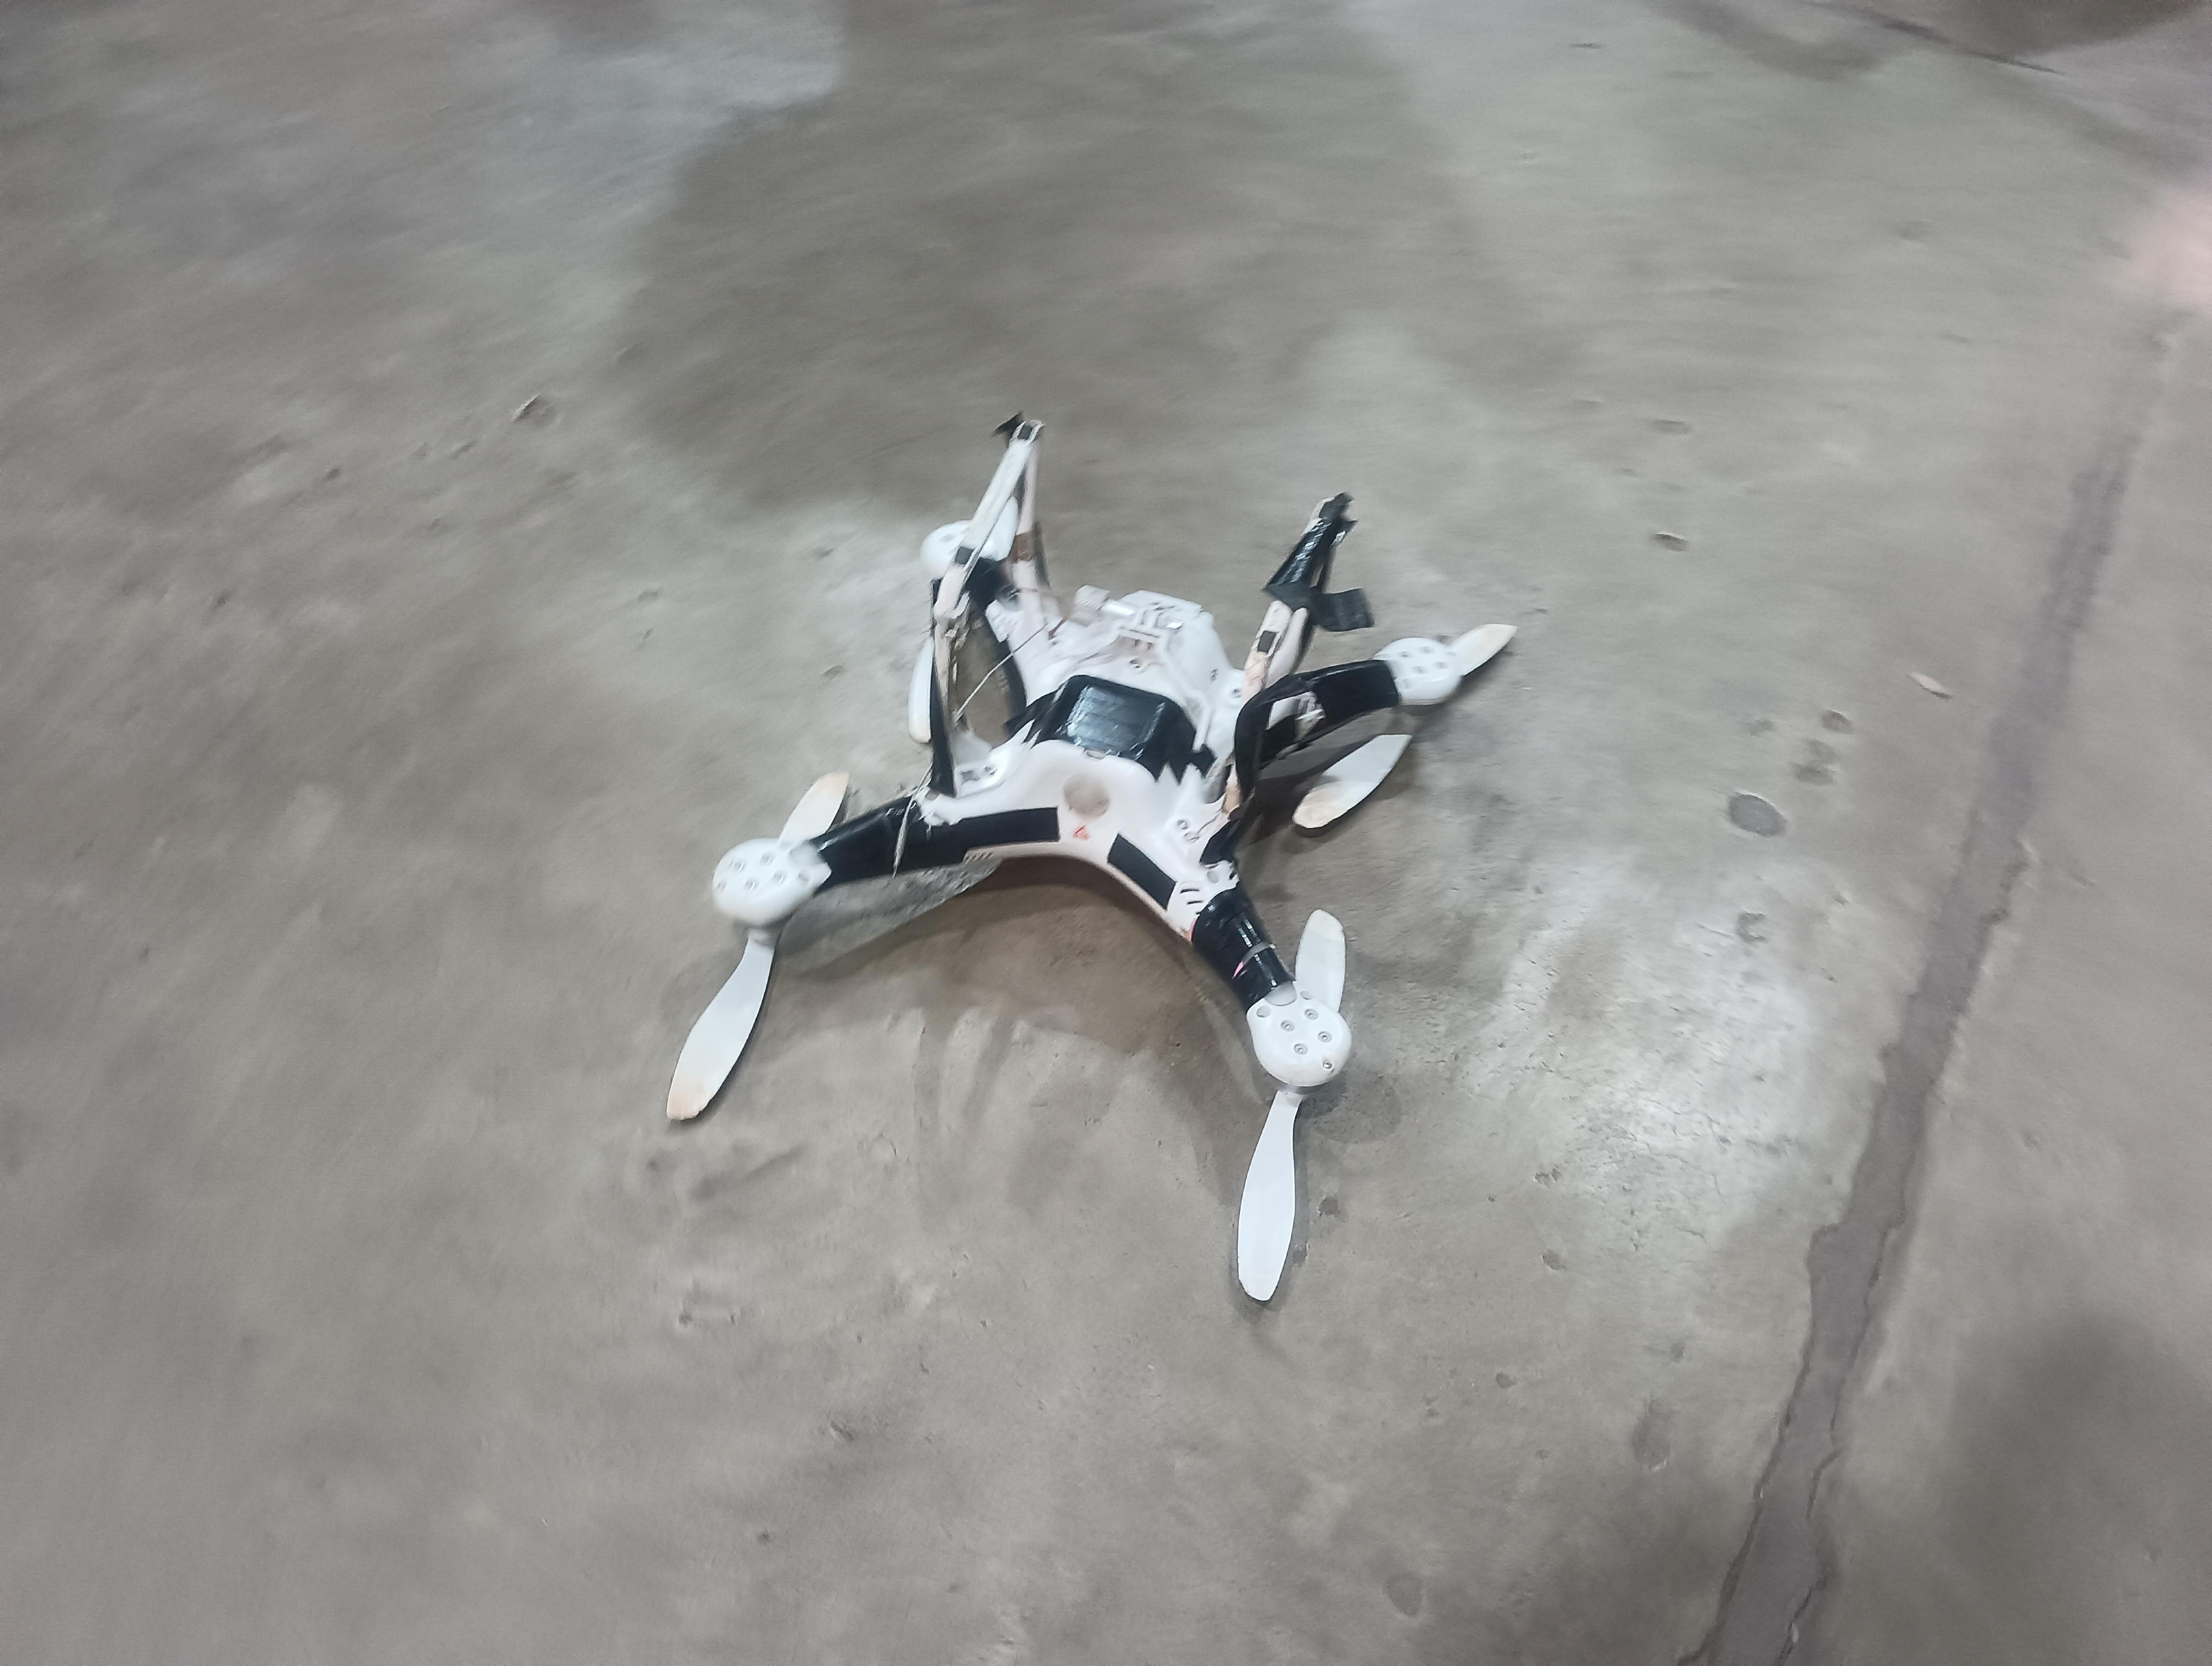drone: (663, 375, 1516, 1311)
